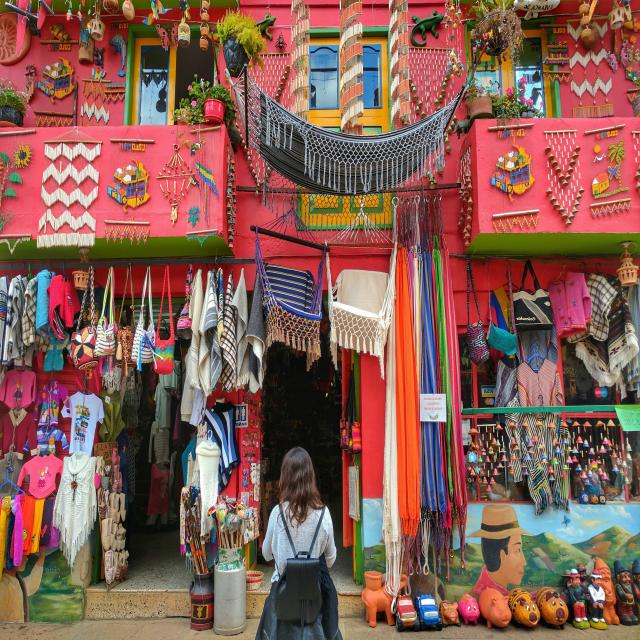adult: (252, 446, 345, 640)
